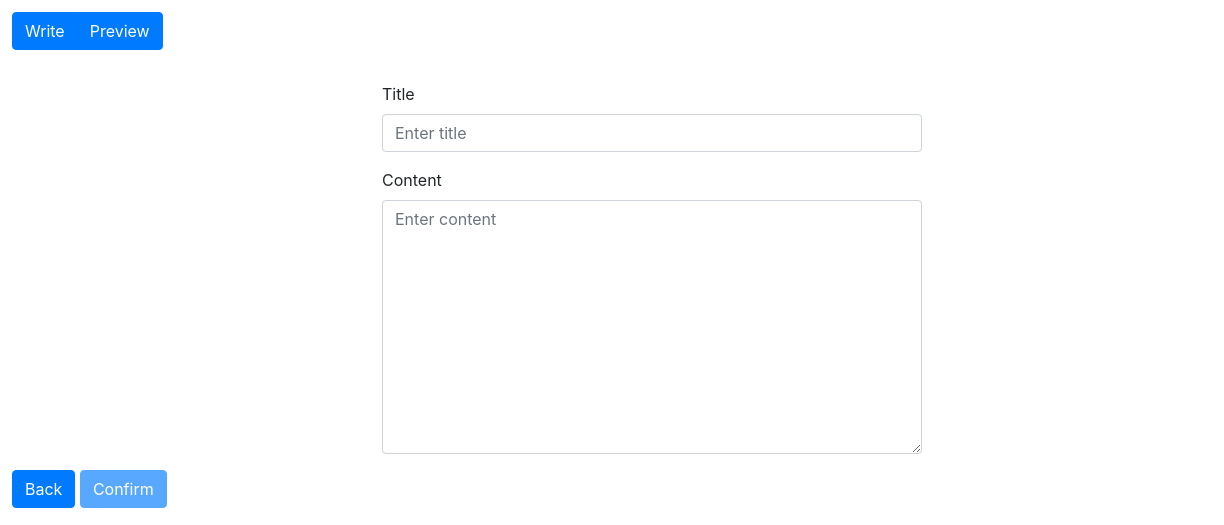
<ArticleWrite /> › should render `preview` mode of ArticleWrite without error
Step 1. Click the button "Preview" → (120,31), box left=77, top=12, right=163, bottom=50
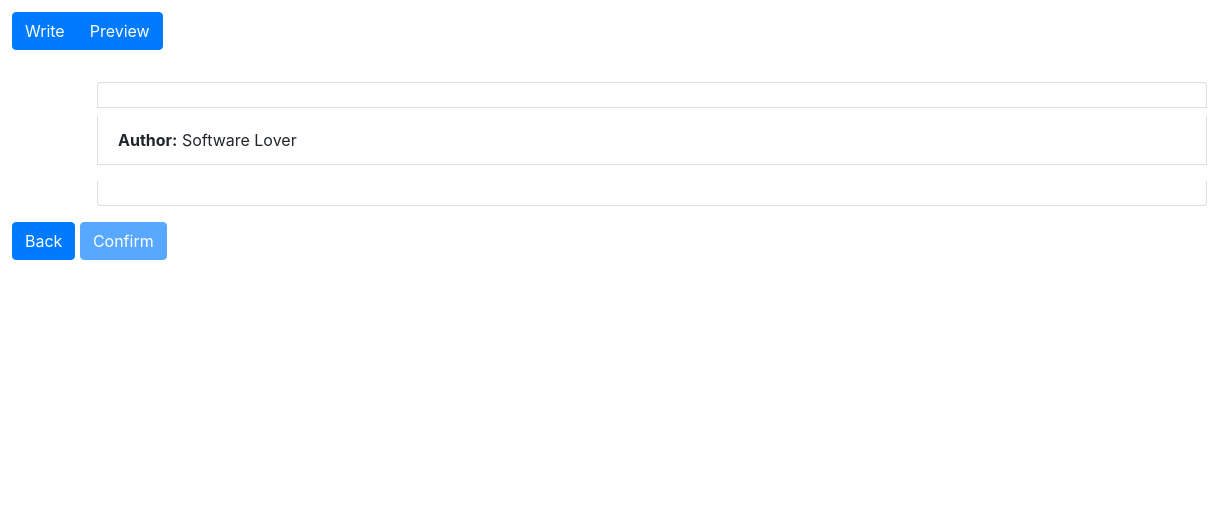
Expected: the number of headings with id "article-title" is 1, left=97, top=82, right=1207, bottom=108
Expected: the number of elements with id "article-author" is 1, left=97, top=116, right=1207, bottom=165
Expected: the number of elements with id "article-content" is 1, left=97, top=181, right=1207, bottom=206
